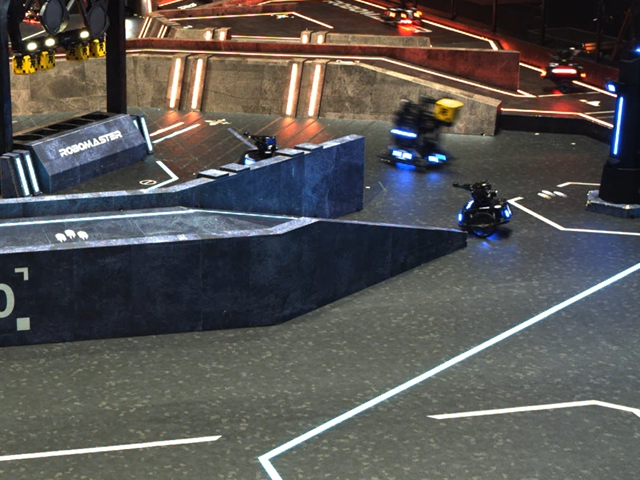rm: (380, 97, 452, 174), (451, 182, 515, 241), (545, 45, 591, 96), (380, 5, 424, 29), (239, 134, 277, 160)
